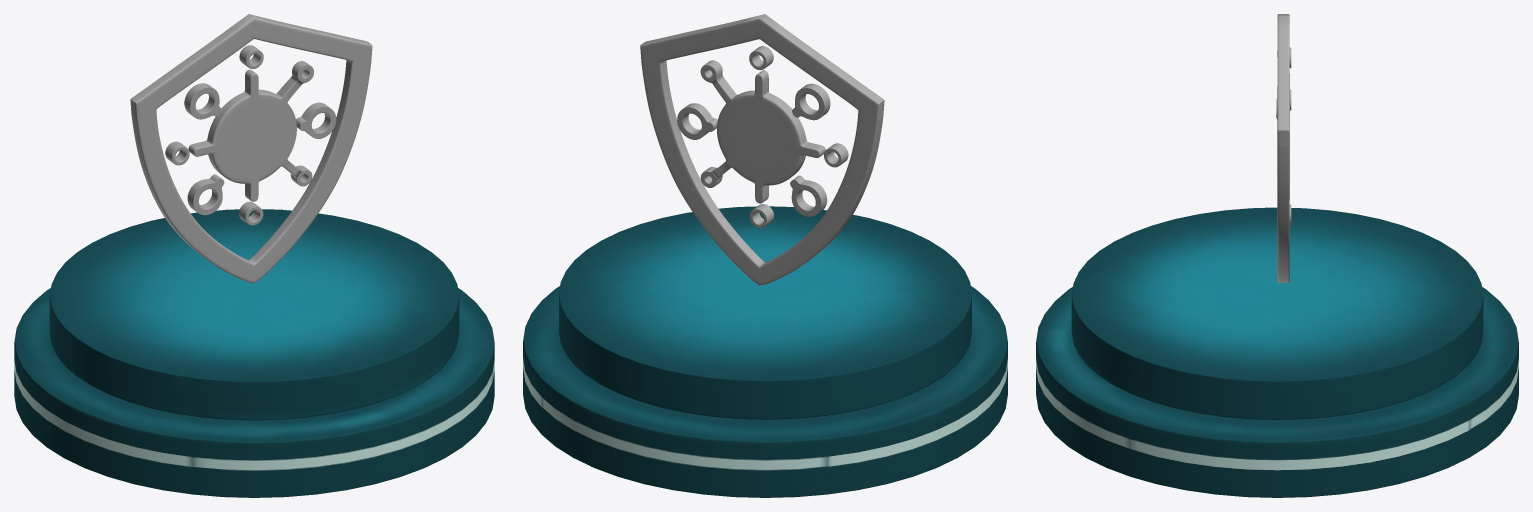
File: Escudo_3.gltf
The picture shows the model from 3 angles, left to right: view 1: azimuth 30°, elevation 25°; view 2: azimuth 150°, elevation 25°; view 3: azimuth 270°, elevation 25°; orthographic projection.
Parts seen in each view (by area): view 1: Base, escudo.001, Circle.002, Circle.006, Circle.004, Circle.001; view 2: Base, escudo.001, Circle.002, Circle.006, Circle.004, Circle.001; view 3: Base, escudo.001.
Boxes of the visible parts, left/top/right/bottom form: Base: left=14, top=209, right=494, bottom=497; escudo.001: left=130, top=14, right=372, bottom=283; Circle.002: left=188, top=61, right=313, bottom=201; Circle.006: left=187, top=174, right=224, bottom=215; Circle.004: left=184, top=83, right=222, bottom=119; Circle.001: left=296, top=102, right=336, bottom=138; Base: left=523, top=206, right=1007, bottom=497; escudo.001: left=640, top=14, right=884, bottom=285; Circle.002: left=700, top=60, right=825, bottom=203; Circle.006: left=790, top=175, right=827, bottom=216; Circle.004: left=792, top=83, right=830, bottom=120; Circle.001: left=677, top=103, right=717, bottom=139; Base: left=1036, top=207, right=1518, bottom=497; escudo.001: left=1277, top=14, right=1289, bottom=282.
Size of the model in its own units: 2.91 by 2.53 by 2.91.
4 materials, 1 textured.
